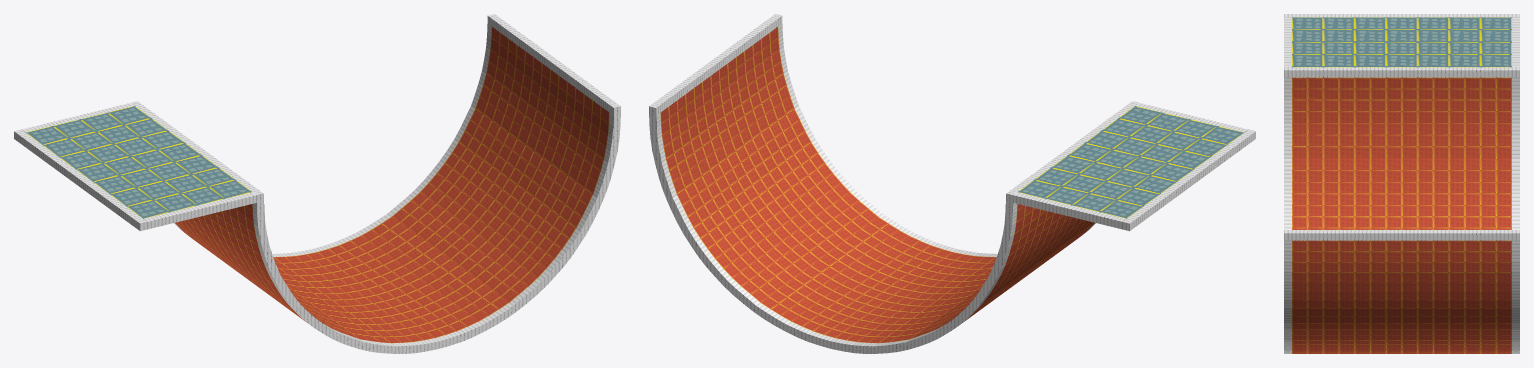
The model's file is half-pipe1.dae.
3 views of the same model, side by side, from view 1: azimuth 30°, elevation 25°; view 2: azimuth 150°, elevation 25°; view 3: azimuth 270°, elevation 25° (orthographic). The views are drawn at different scales.
Visible parts, largest first — view 1: half-pipe1; view 2: half-pipe1; view 3: half-pipe1.
Part boxes in pixels (x1,y1,x2,y2): half-pipe1: (14, 14, 620, 353); half-pipe1: (649, 14, 1255, 353); half-pipe1: (1284, 14, 1519, 353).
Size of the model in its own units: 33 by 15 by 13.
